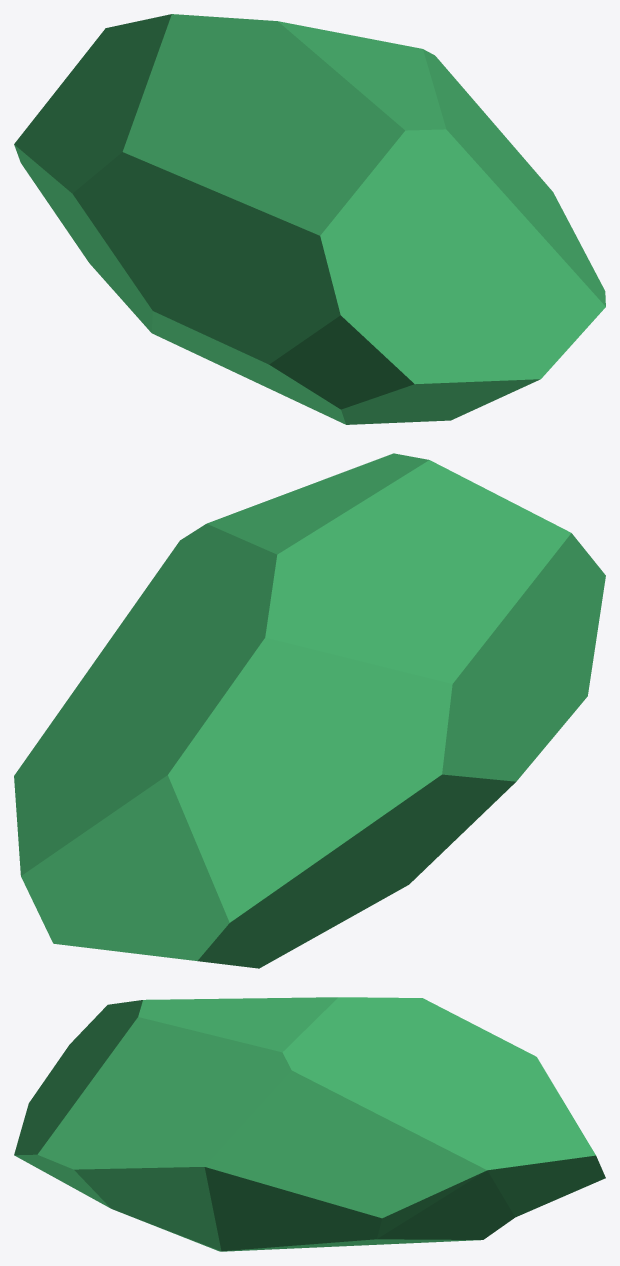
File: Emrald_1.fbx
3 views of the same model, one above another, from view 1: azimuth 30°, elevation 25°; view 2: azimuth 150°, elevation 25°; view 3: azimuth 270°, elevation 25° (orthographic). The views are drawn at different scales.
Visible parts, largest first — view 1: Cube.002_Cube.003; view 2: Cube.002_Cube.003; view 3: Cube.002_Cube.003.
Boxes of the visible parts, left/top/right/bottom form: Cube.002_Cube.003: left=14, top=14, right=605, bottom=424; Cube.002_Cube.003: left=14, top=453, right=605, bottom=968; Cube.002_Cube.003: left=14, top=997, right=605, bottom=1251.
Bounding box in the file's own units: 0.9355 × 0.7733 × 1.84.
Materials: 1 (1 with a texture image).
